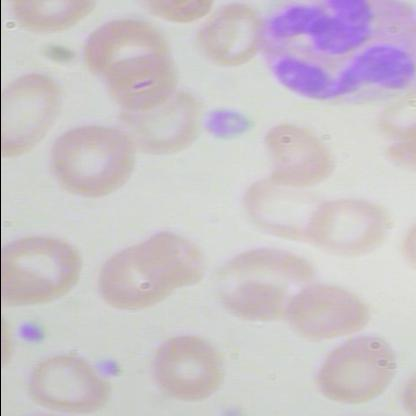Platelets: (198, 102, 264, 148), (14, 316, 50, 350), (93, 350, 133, 380)
RBC: (208, 242, 316, 320), (44, 122, 142, 204), (1, 223, 84, 313), (277, 277, 367, 352), (308, 334, 398, 408), (143, 332, 228, 406), (1, 63, 61, 166), (76, 18, 172, 82), (90, 240, 174, 312), (22, 351, 113, 415), (302, 194, 387, 259), (254, 122, 334, 190), (190, 1, 262, 74), (128, 229, 198, 289), (101, 54, 176, 110)
WBC: (252, 0, 415, 108)
